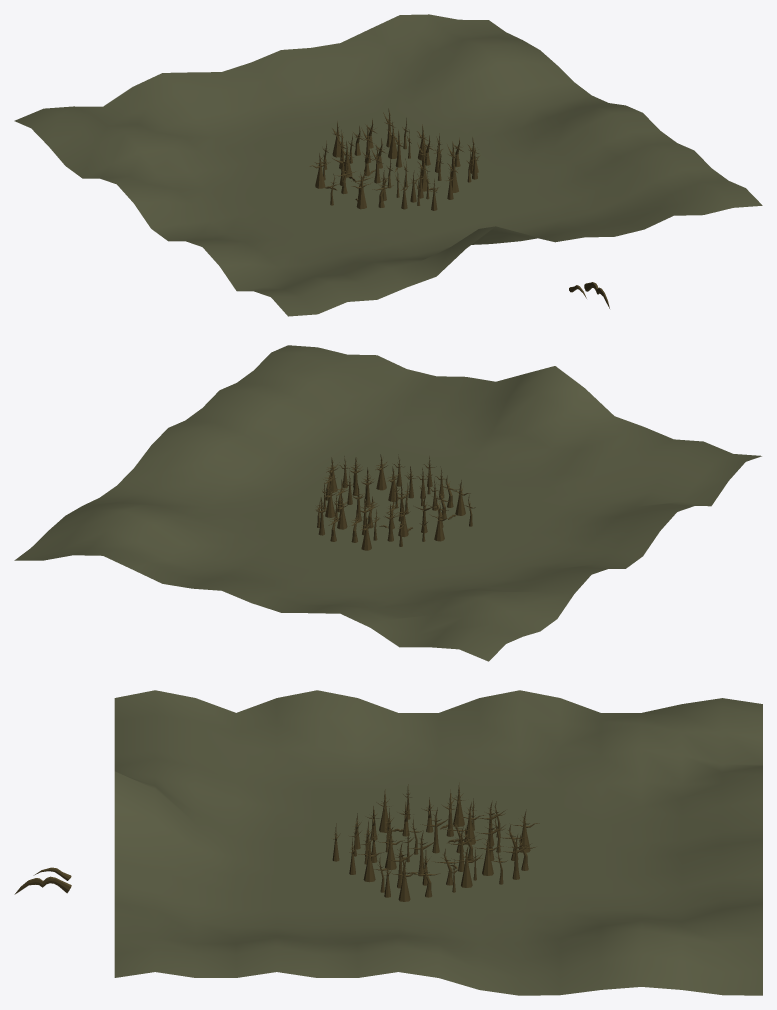
Rendered from Environment Forest001.fbx.
3 views of the same model, one above another, from view 1: azimuth 30°, elevation 25°; view 2: azimuth 150°, elevation 25°; view 3: azimuth 270°, elevation 25° (orthographic). The views are drawn at different scales.
Parts seen in each view (by area): view 1: Plane; view 2: Plane; view 3: Plane.
Part boxes in pixels (x1,y1,x2,y2): Plane: [14, 14, 762, 316]; Plane: [14, 345, 761, 661]; Plane: [114, 690, 762, 995].
Bounding box in the file's own units: 9987 × 1403 × 11538.
